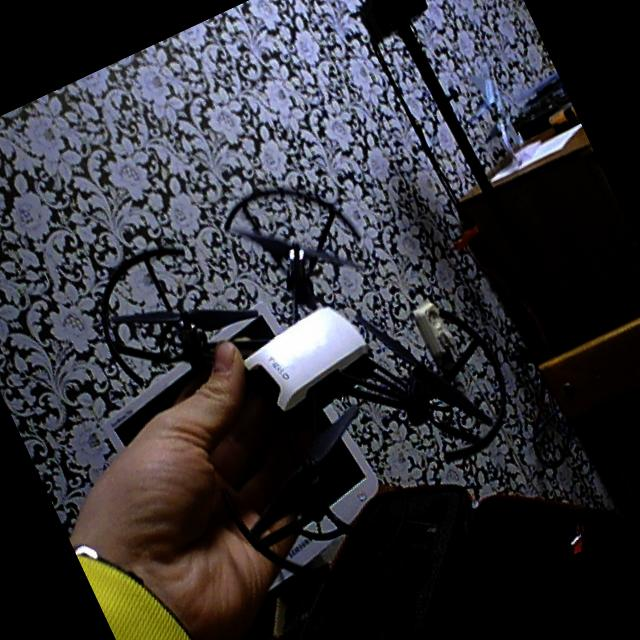drone: (68, 124, 560, 618)
